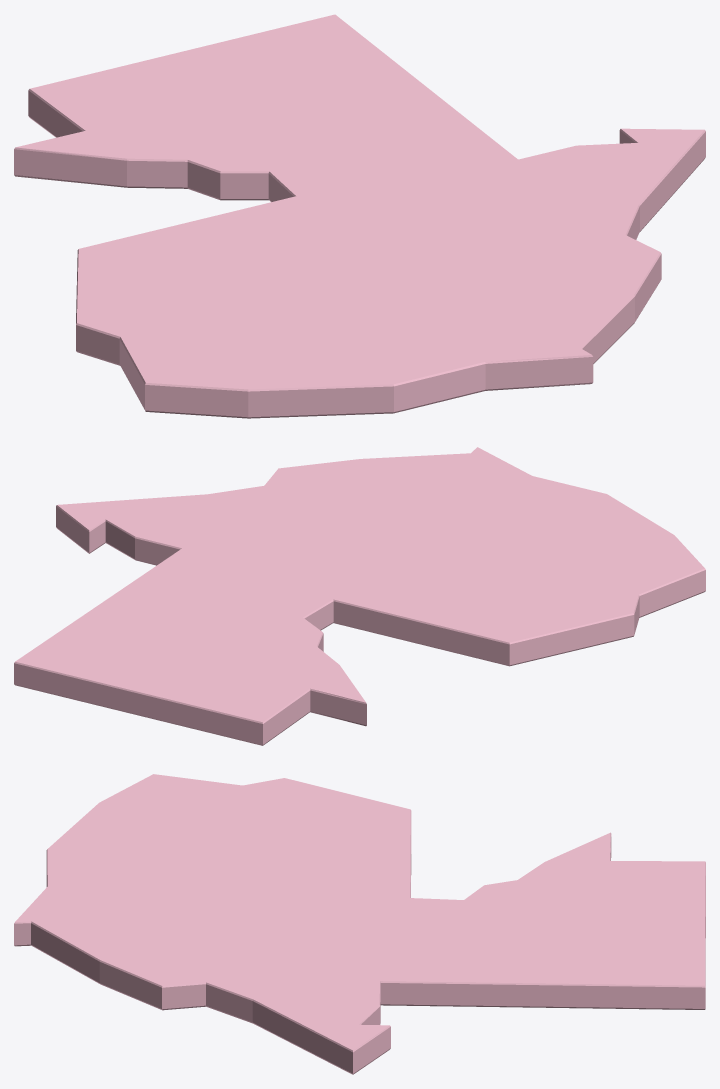
File: GTM.glb
3 renders of one model, top to bottom at view 1: azimuth 30°, elevation 25°; view 2: azimuth 150°, elevation 25°; view 3: azimuth 270°, elevation 25°, orthographic. The views are drawn at different scales.
Size of the model in its own units: 1.66 by 0.068 by 1.75.
